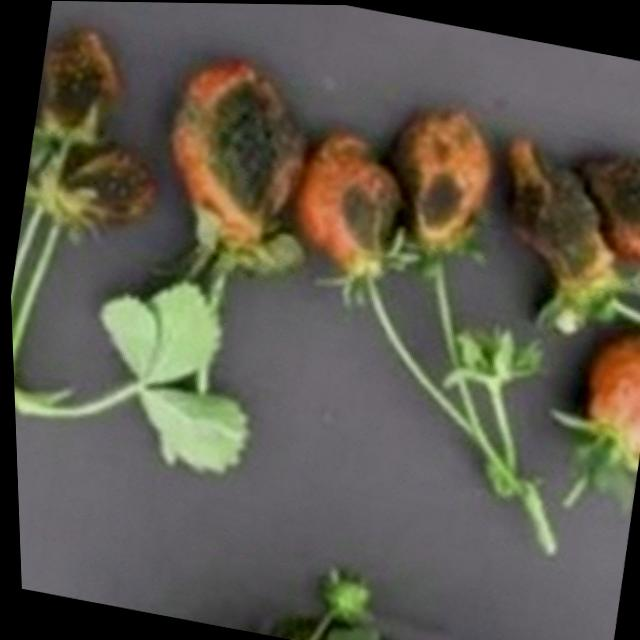Anthracnose Fruit Rot: (167, 75, 297, 231), (509, 139, 608, 281), (394, 107, 491, 234), (35, 27, 121, 137), (58, 140, 157, 231), (578, 151, 640, 255), (330, 167, 397, 252)
